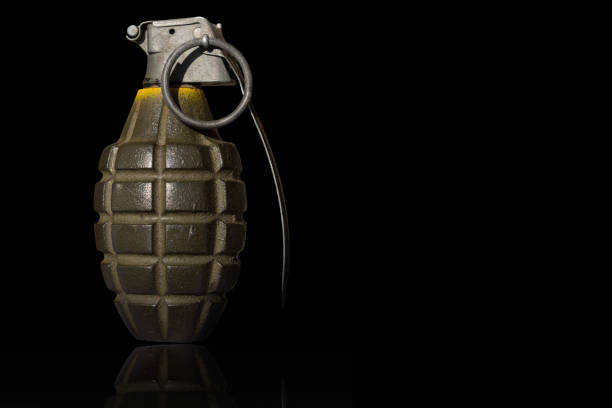e1: (95, 17, 295, 330)
